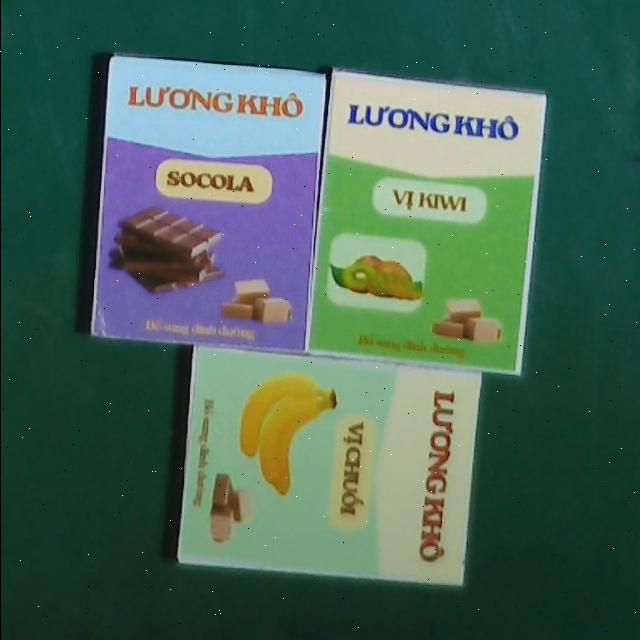chuoi: (172, 344, 480, 588)
kiwi: (306, 69, 544, 373)
socola: (89, 53, 326, 354)
